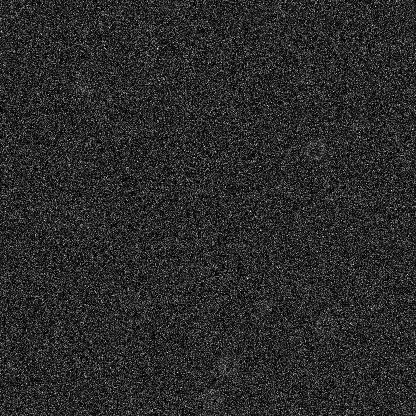Ring: (313, 312, 337, 336), (200, 386, 224, 410), (302, 137, 326, 161), (215, 353, 239, 377), (181, 258, 205, 282)
Spot: (257, 295, 273, 311), (75, 80, 91, 96), (147, 44, 163, 60)
